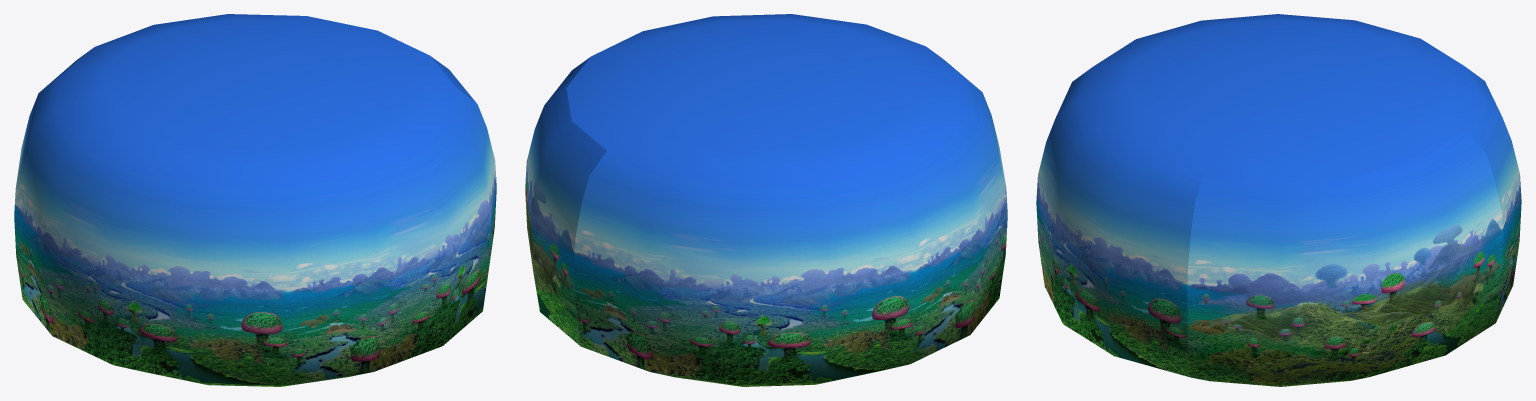
Rendered from Skybox (Frog Forest).fbx.
The picture shows the model from 3 angles, left to right: view 1: azimuth 30°, elevation 25°; view 2: azimuth 150°, elevation 25°; view 3: azimuth 270°, elevation 25°; orthographic projection.
Visible parts, largest first — view 1: Skybox; view 2: Skybox; view 3: Skybox.
Part boxes in pixels (left/top/right/bottom): Skybox: left=14, top=14, right=496, bottom=386; Skybox: left=525, top=14, right=1007, bottom=386; Skybox: left=1036, top=14, right=1521, bottom=386.
Bounding box in the file's own units: 3.52e+07 × 1.96e+07 × 3.52e+07.
